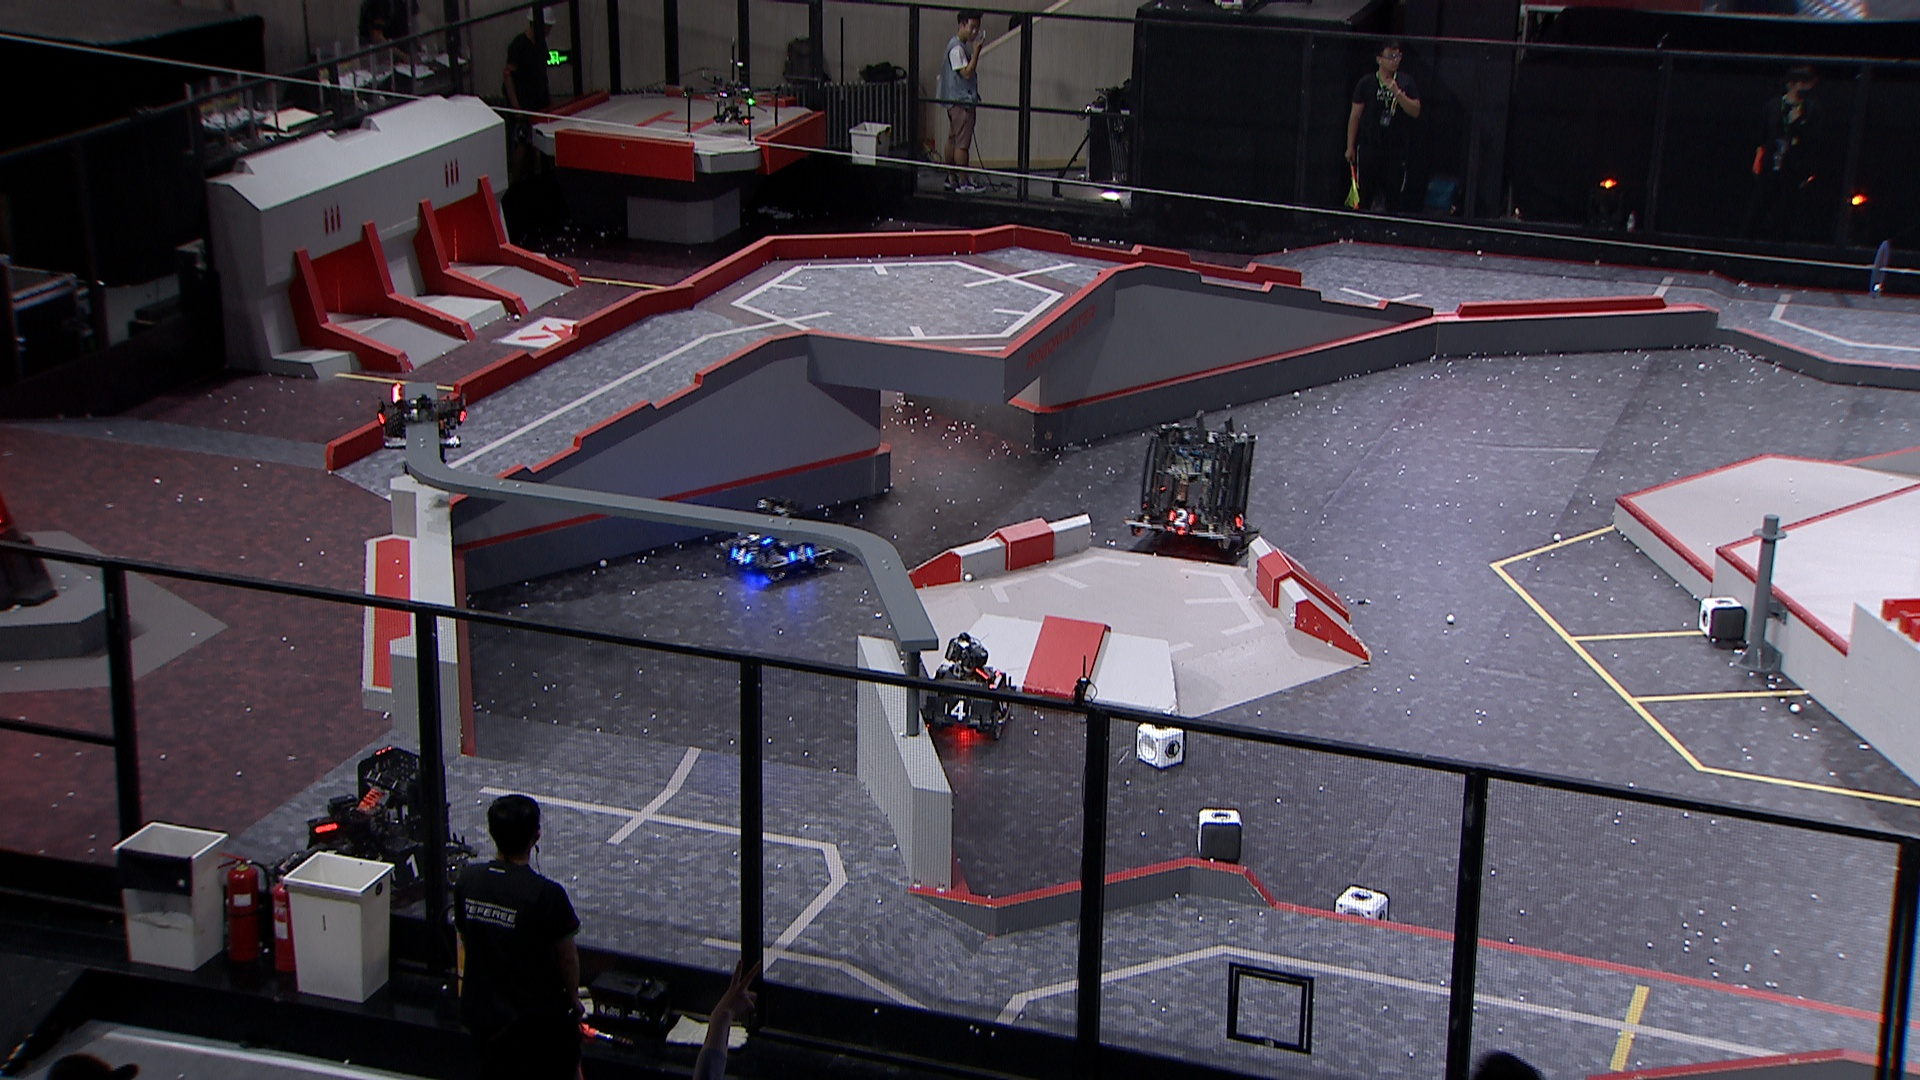armor: (386, 855, 423, 884), (942, 699, 975, 723), (1164, 508, 1199, 529), (742, 529, 774, 549), (731, 543, 754, 568), (789, 542, 814, 564), (1233, 513, 1249, 533)
car: (268, 745, 481, 916), (1124, 413, 1262, 553), (709, 498, 841, 585), (915, 633, 1015, 741)
watcher: (376, 381, 468, 479)
